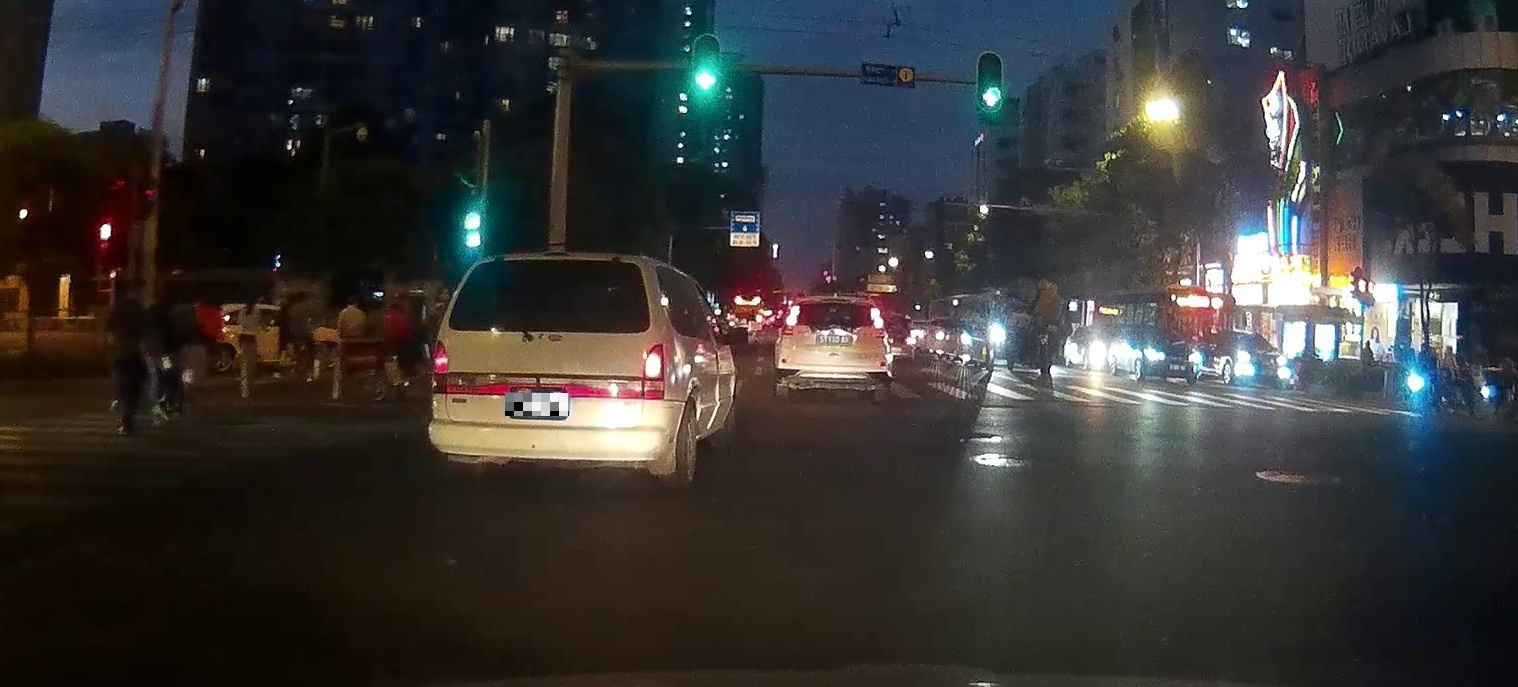L_light: (433, 339, 449, 373), (786, 305, 801, 326)
R_light: (644, 343, 664, 381), (870, 308, 885, 329)
T_light: (537, 259, 580, 270), (826, 303, 847, 308)
night-no: (775, 296, 893, 400)
night-right: (427, 250, 679, 486)
plate_1: (505, 393, 569, 416)
